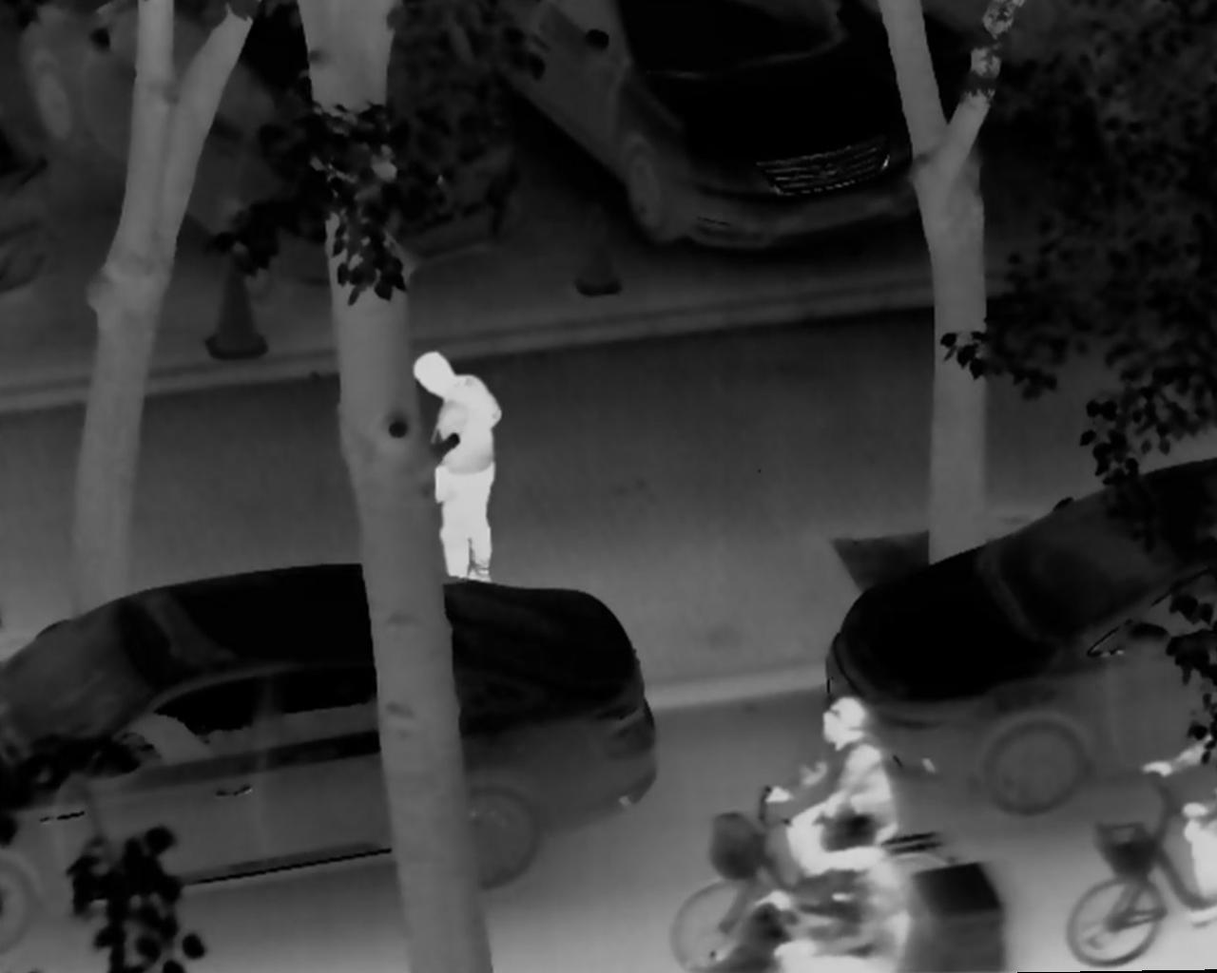person: (753, 679, 911, 888), (713, 817, 918, 973), (394, 343, 510, 596), (1140, 661, 1217, 926)
